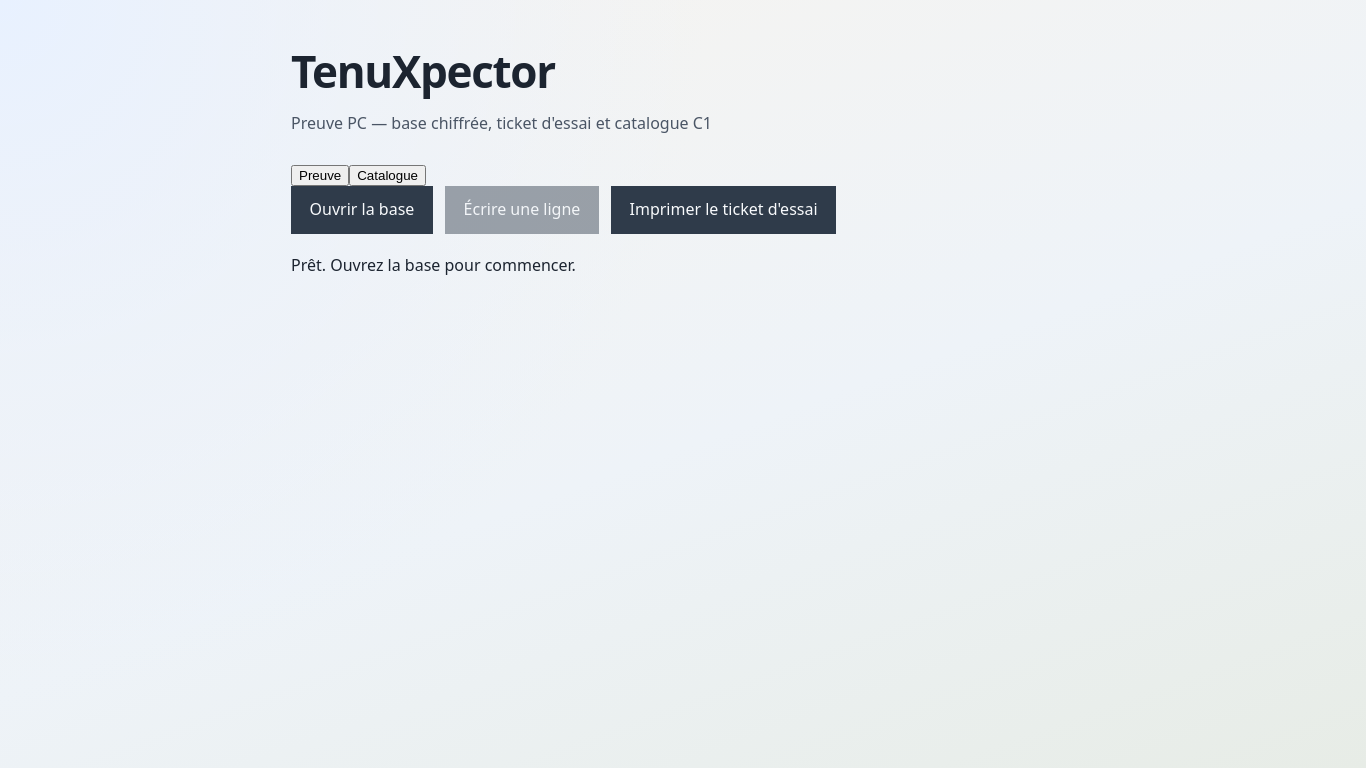
Test: App renderer [NFR8] › ouvre la base, écrit et imprime
Click the button with test id "open-database".
click(362, 210)  # box [291,186,433,234]
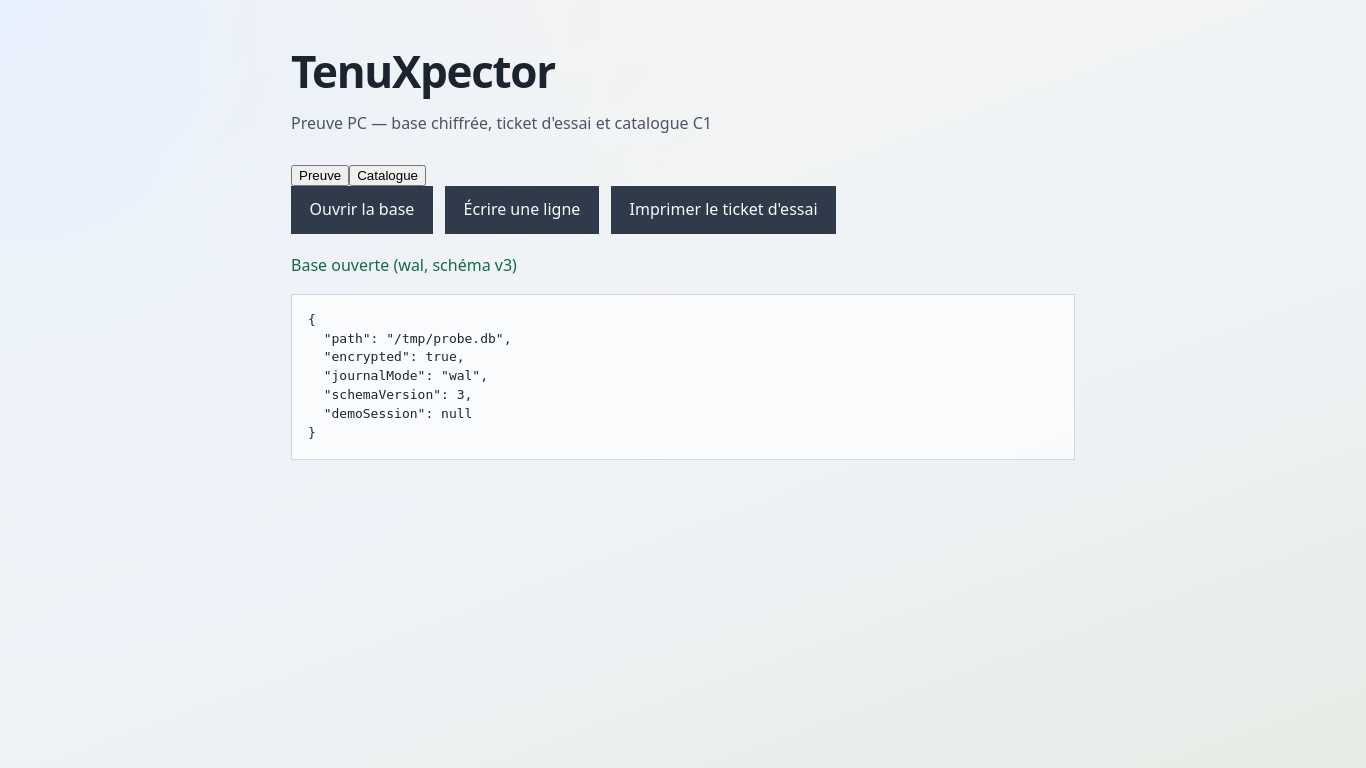
Check: the message with test id "status-line" shows "Base ouverte", box [291,254,517,276]
Check: the text with test id "database-info" is shown, box [291,294,1075,460]
Click the button with test id "write-probe".
click(522, 210)  # box [445,186,599,234]
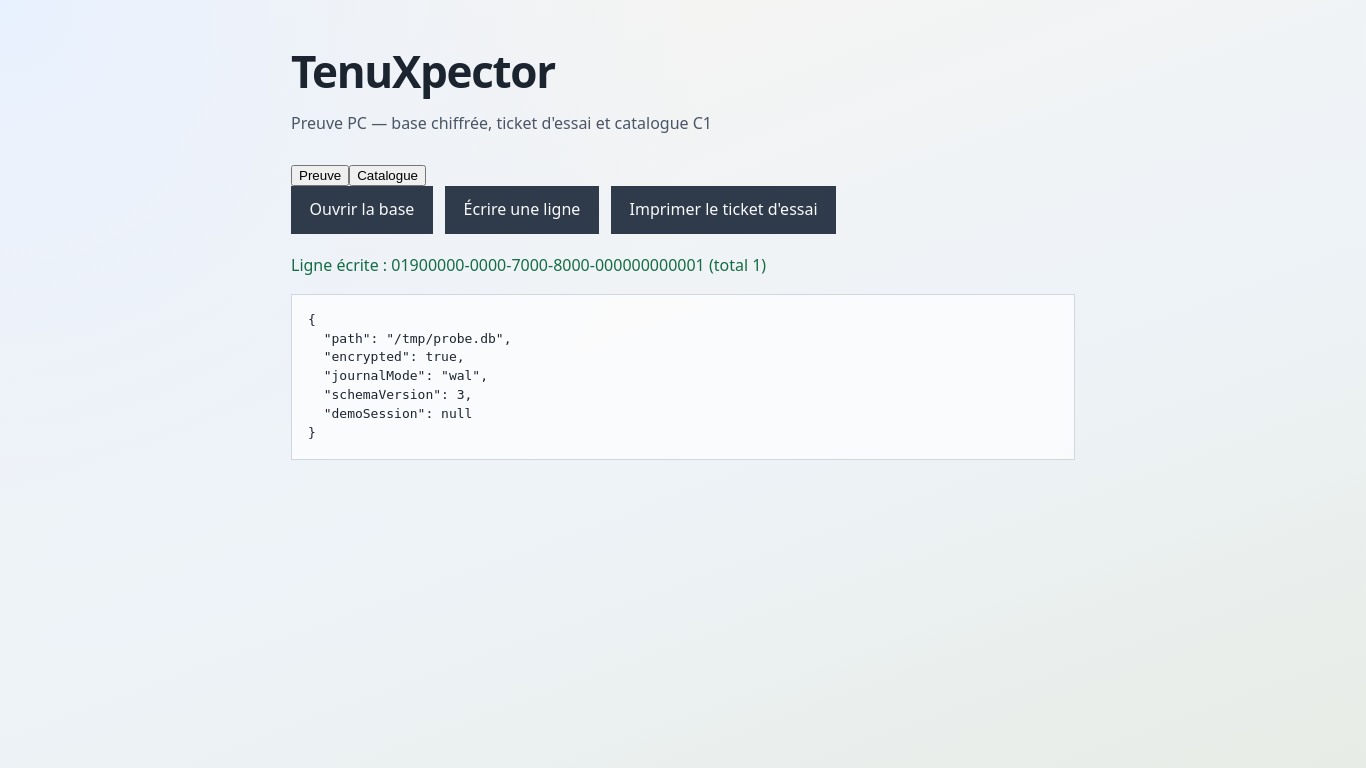
Check: the message with test id "status-line" shows "Ligne écrite", box [291,254,766,276]
Click the button with test id "print-probe".
click(724, 210)  # box [611,186,836,234]
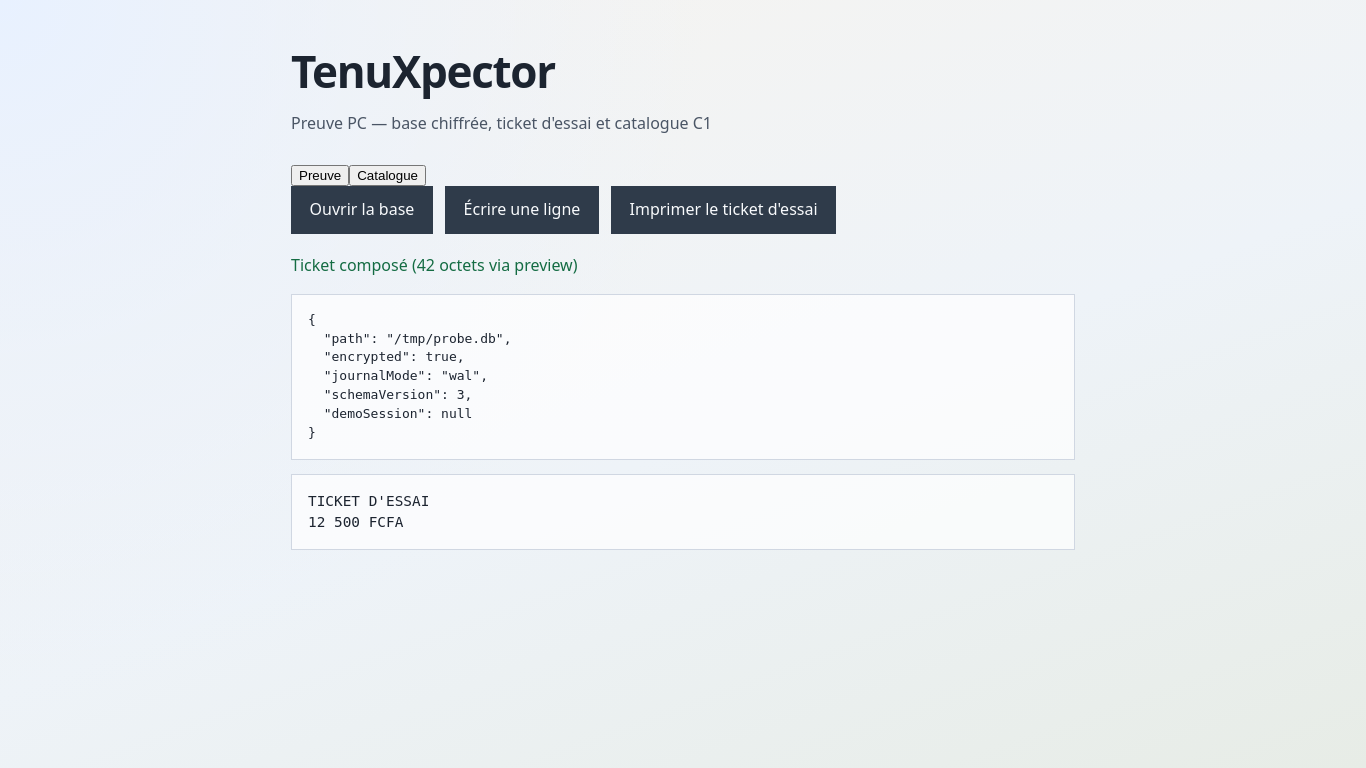
Check: the text with test id "print-preview" shows "TICKET D'ESSAI", box [308,493,429,530]
